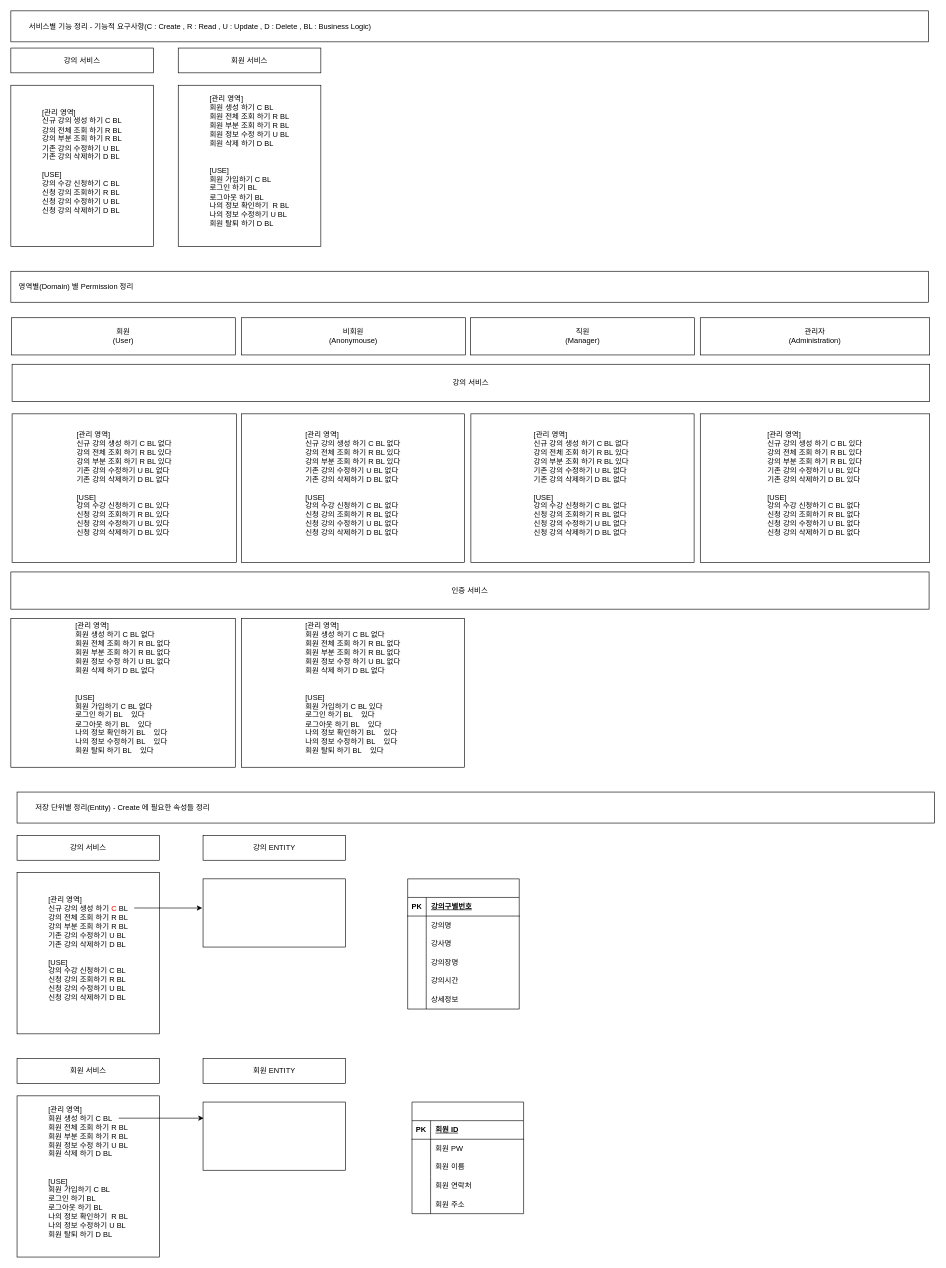
Some shapes in this 946 by 1268 pixel diagram are drawn without their labels. Each missing label, with the box of its shape:
[Attribute] 강의 구별 번호(PK) 강의명 강사명 강의장명 강의시간 상세정보: (202, 878, 346, 947)
[Attribute] 회원 ID(PK) 회원 PW 회원 이름 회원 연락처 회원 주소: (202, 1101, 346, 1170)
강의 Table: (407, 878, 519, 1009)
회원 Table: (411, 1101, 524, 1214)
